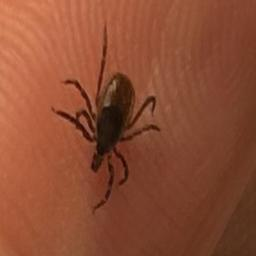Ixodes scapularis: (89, 16, 199, 198)
